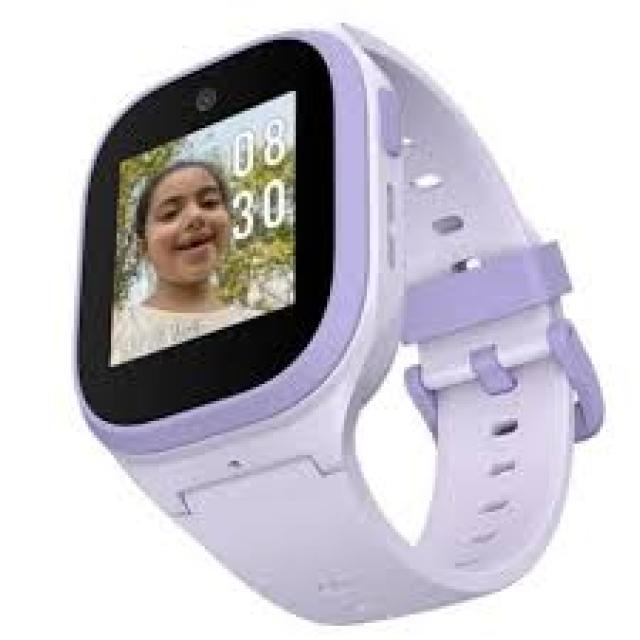objects: (72, 26, 600, 627)
